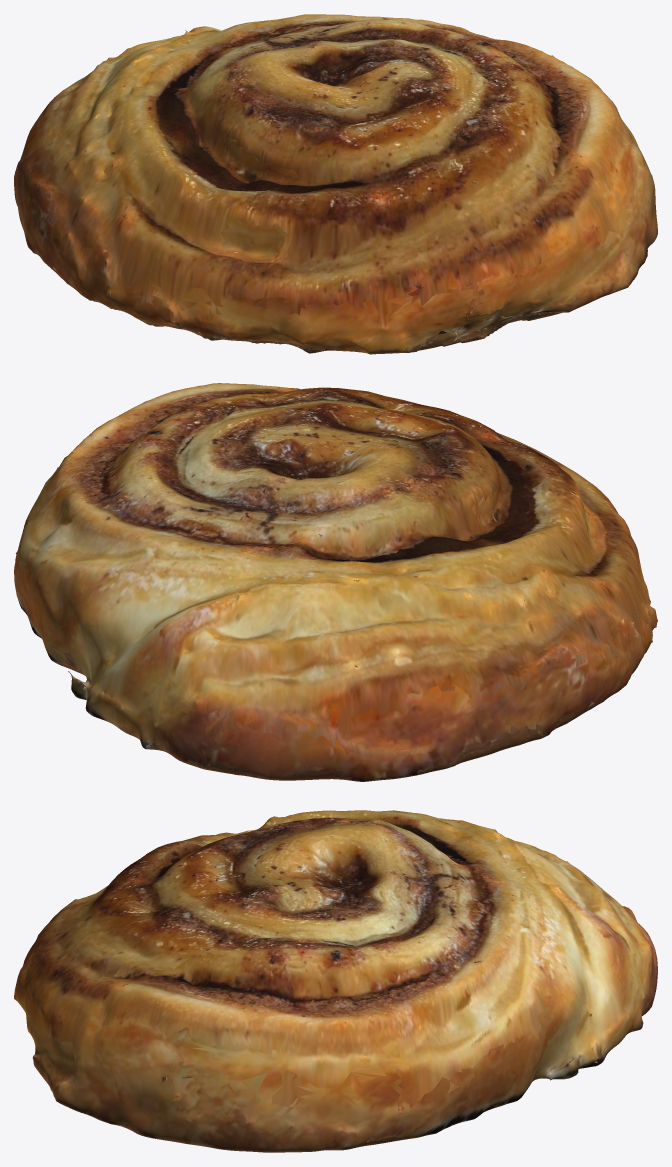
File: cinnamon_22710.obj
3 views of the same model, one above another, from view 1: azimuth 30°, elevation 25°; view 2: azimuth 150°, elevation 25°; view 3: azimuth 270°, elevation 25° (orthographic). The views are drawn at different scales.
Size of the model in its own units: 111 by 34 by 115.
1 material, 1 textured.
